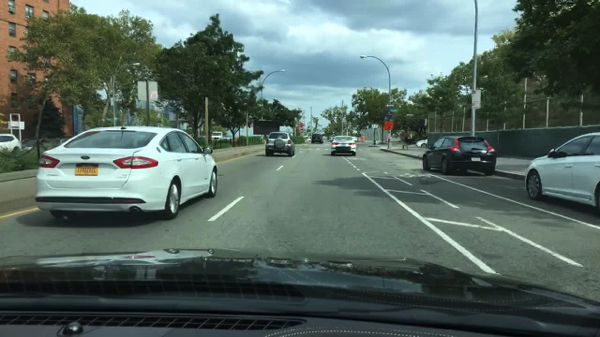car: (34, 126, 219, 221), (522, 131, 598, 215), (422, 136, 496, 177), (264, 131, 295, 158), (330, 136, 356, 157), (0, 132, 23, 155), (310, 134, 324, 145), (415, 138, 429, 147), (211, 132, 224, 141), (351, 136, 357, 142), (329, 136, 335, 142)
traffic sign: (137, 81, 158, 103), (470, 89, 481, 109), (383, 114, 395, 131), (385, 103, 395, 108), (371, 123, 379, 129), (298, 123, 304, 128)
